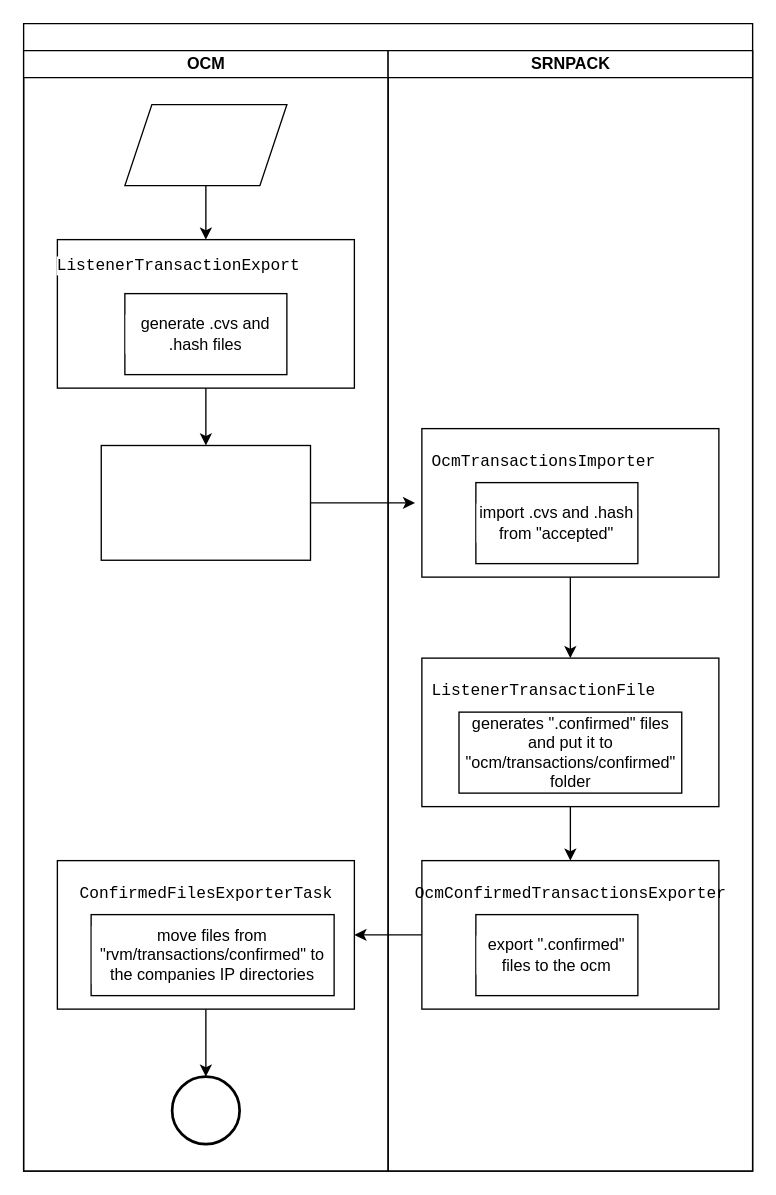
Some shapes in this 776 by 1195 pixel diagram are drawn without their labels. Here are the shapes that lost their labels. From the top down, the centre of each, then its label:
(205,144): REST
(205,502): save to "rvm/transactions/accepted" folder
(205,1110): end
